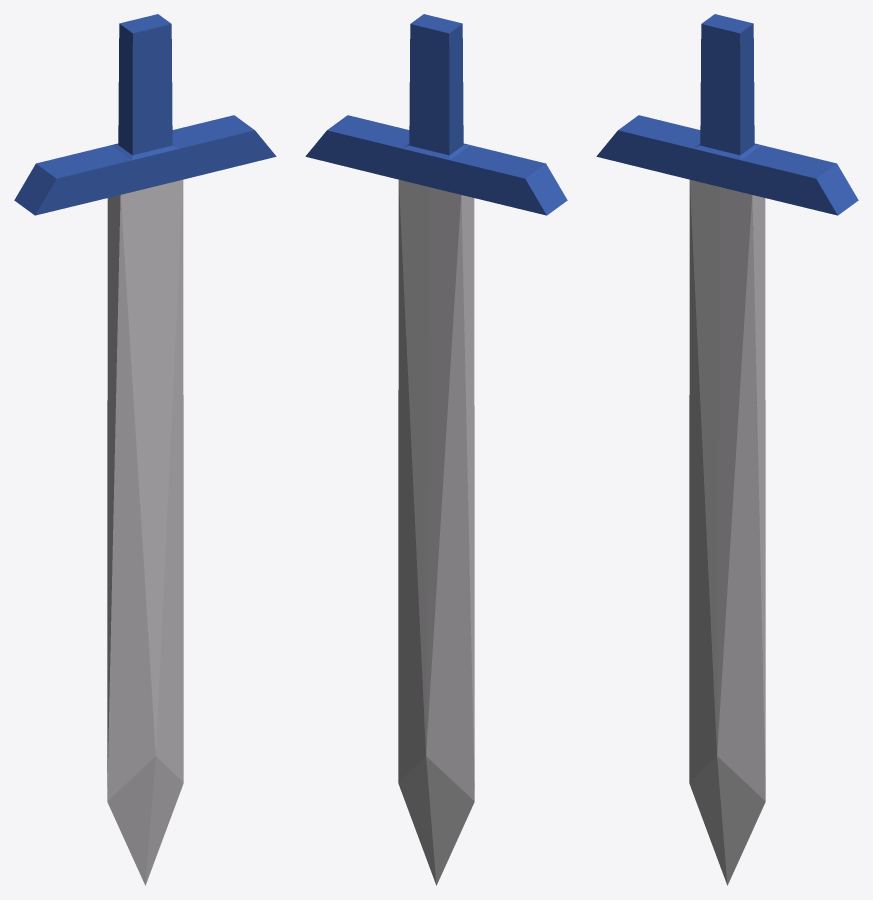
File: T_Font.obj
3 views of the same model, side by side, from view 1: azimuth 30°, elevation 25°; view 2: azimuth 150°, elevation 25°; view 3: azimuth 330°, elevation 25° (orthographic).
Visible parts, largest first — view 1: 平面.001; view 2: 平面.001; view 3: 平面.001.
Part boxes in pixels (bbox=[...]): 平面.001: bbox=[14, 14, 276, 885]; 平面.001: bbox=[305, 14, 567, 885]; 平面.001: bbox=[596, 14, 858, 885].
Size of the model in its own units: 0.9191 by 3.13 by 0.137.
Materials: 1 (1 with a texture image).
